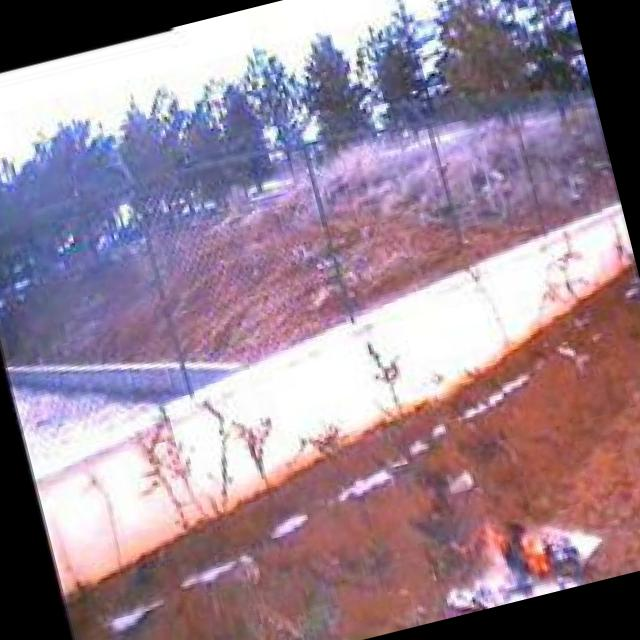Fire: (448, 500, 593, 600)
